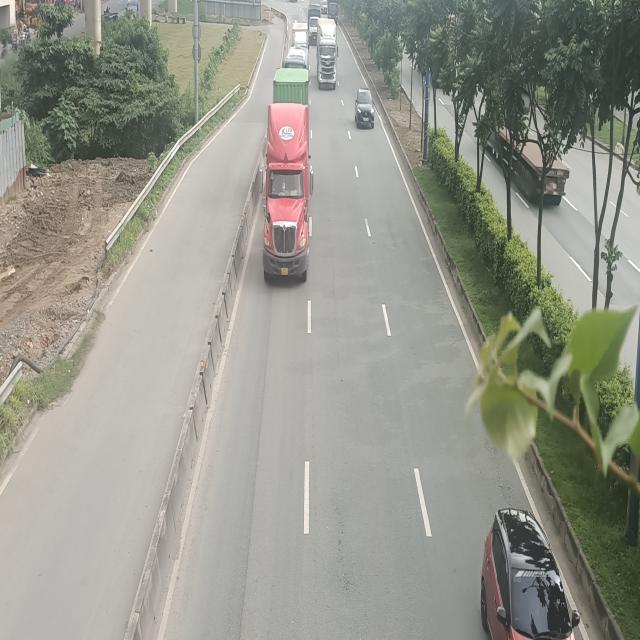car: (482, 509, 580, 640), (356, 88, 374, 128)
container: (257, 68, 314, 278), (316, 18, 338, 87)
truck: (308, 4, 320, 44)
